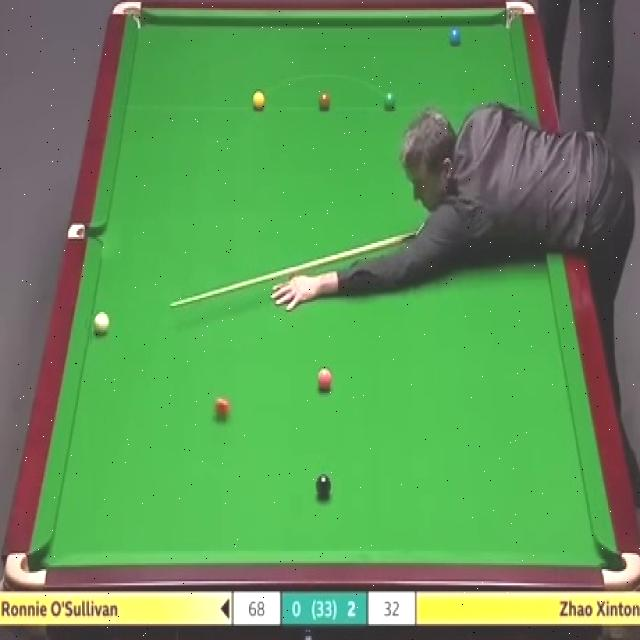black-ball: (314, 473, 332, 500)
blue-ball: (448, 27, 462, 45)
brown-ball: (317, 90, 332, 111)
green-ball: (382, 91, 396, 112)
pink-ball: (316, 368, 332, 391)
red-ball: (214, 396, 231, 421)
white-ball: (92, 309, 109, 337)
yellow-ball: (252, 89, 266, 110)
